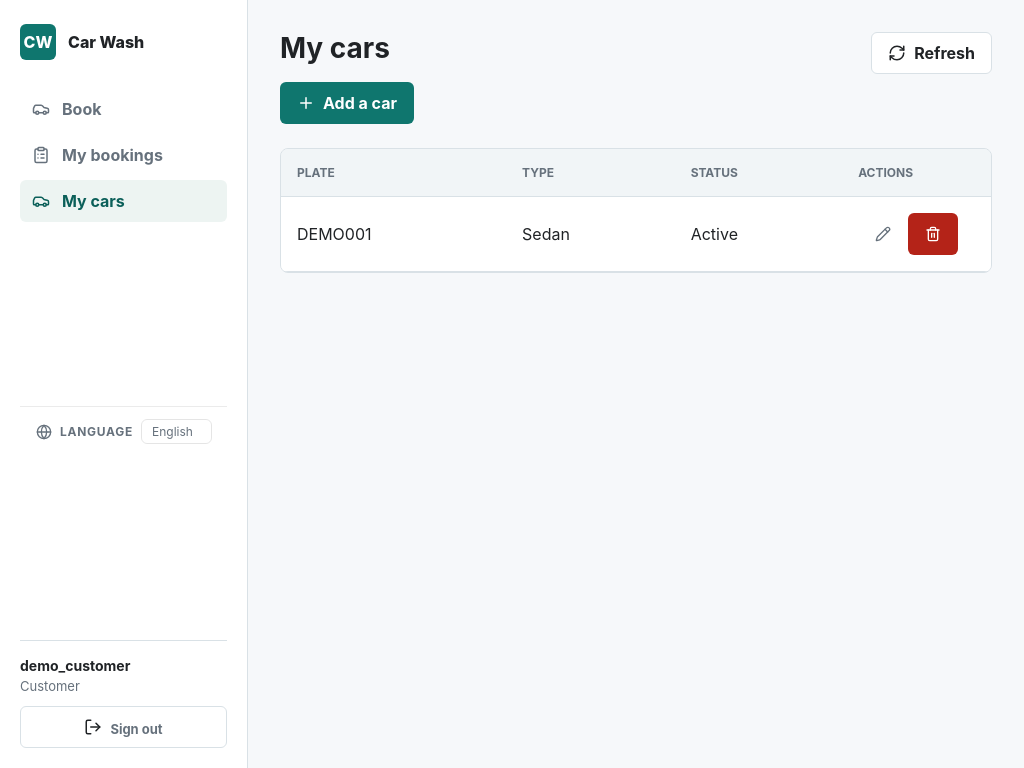
Test case: App › opens the new car modal in the selected English language
Expected: the text "DEMO001" is shown, top-left (281, 196), bottom-right (506, 271)
Click the button "Add a car" at {"x": 347, "y": 103}, box top-left (280, 82), bottom-right (414, 124)
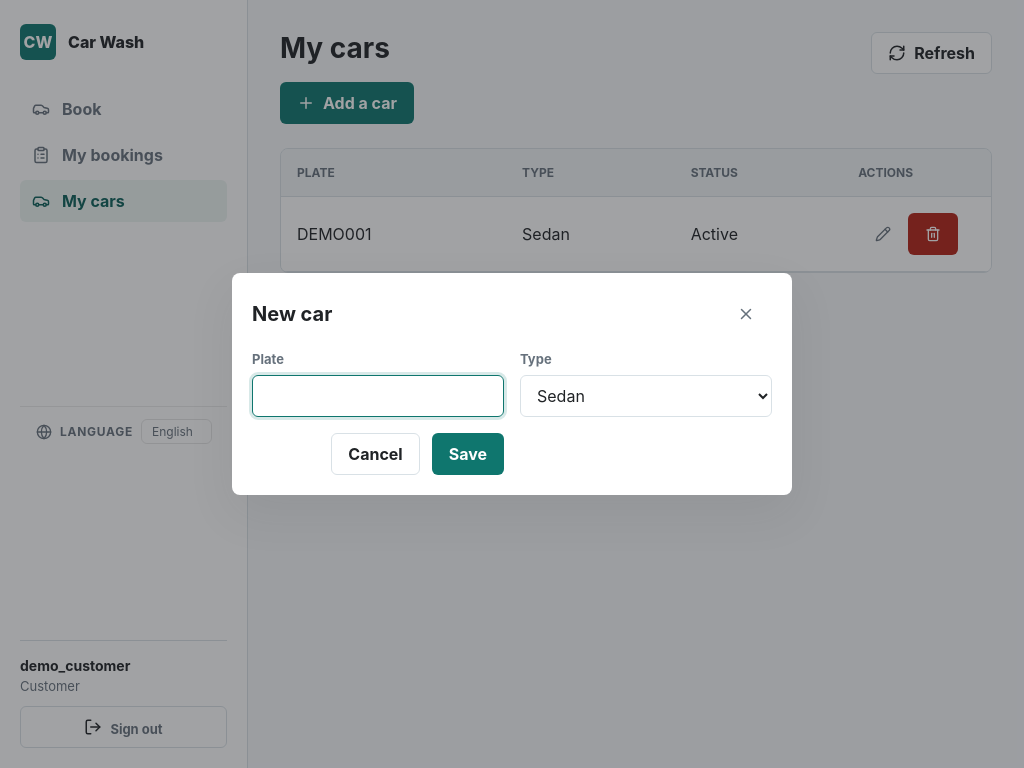
Expected: the field labelled "Plate" is shown, top-left (252, 375), bottom-right (504, 417)
Expected: the dropdown labelled "Type" is shown, top-left (520, 375), bottom-right (772, 417)
Expected: the button "Save" is enabled, top-left (432, 433), bottom-right (504, 475)
